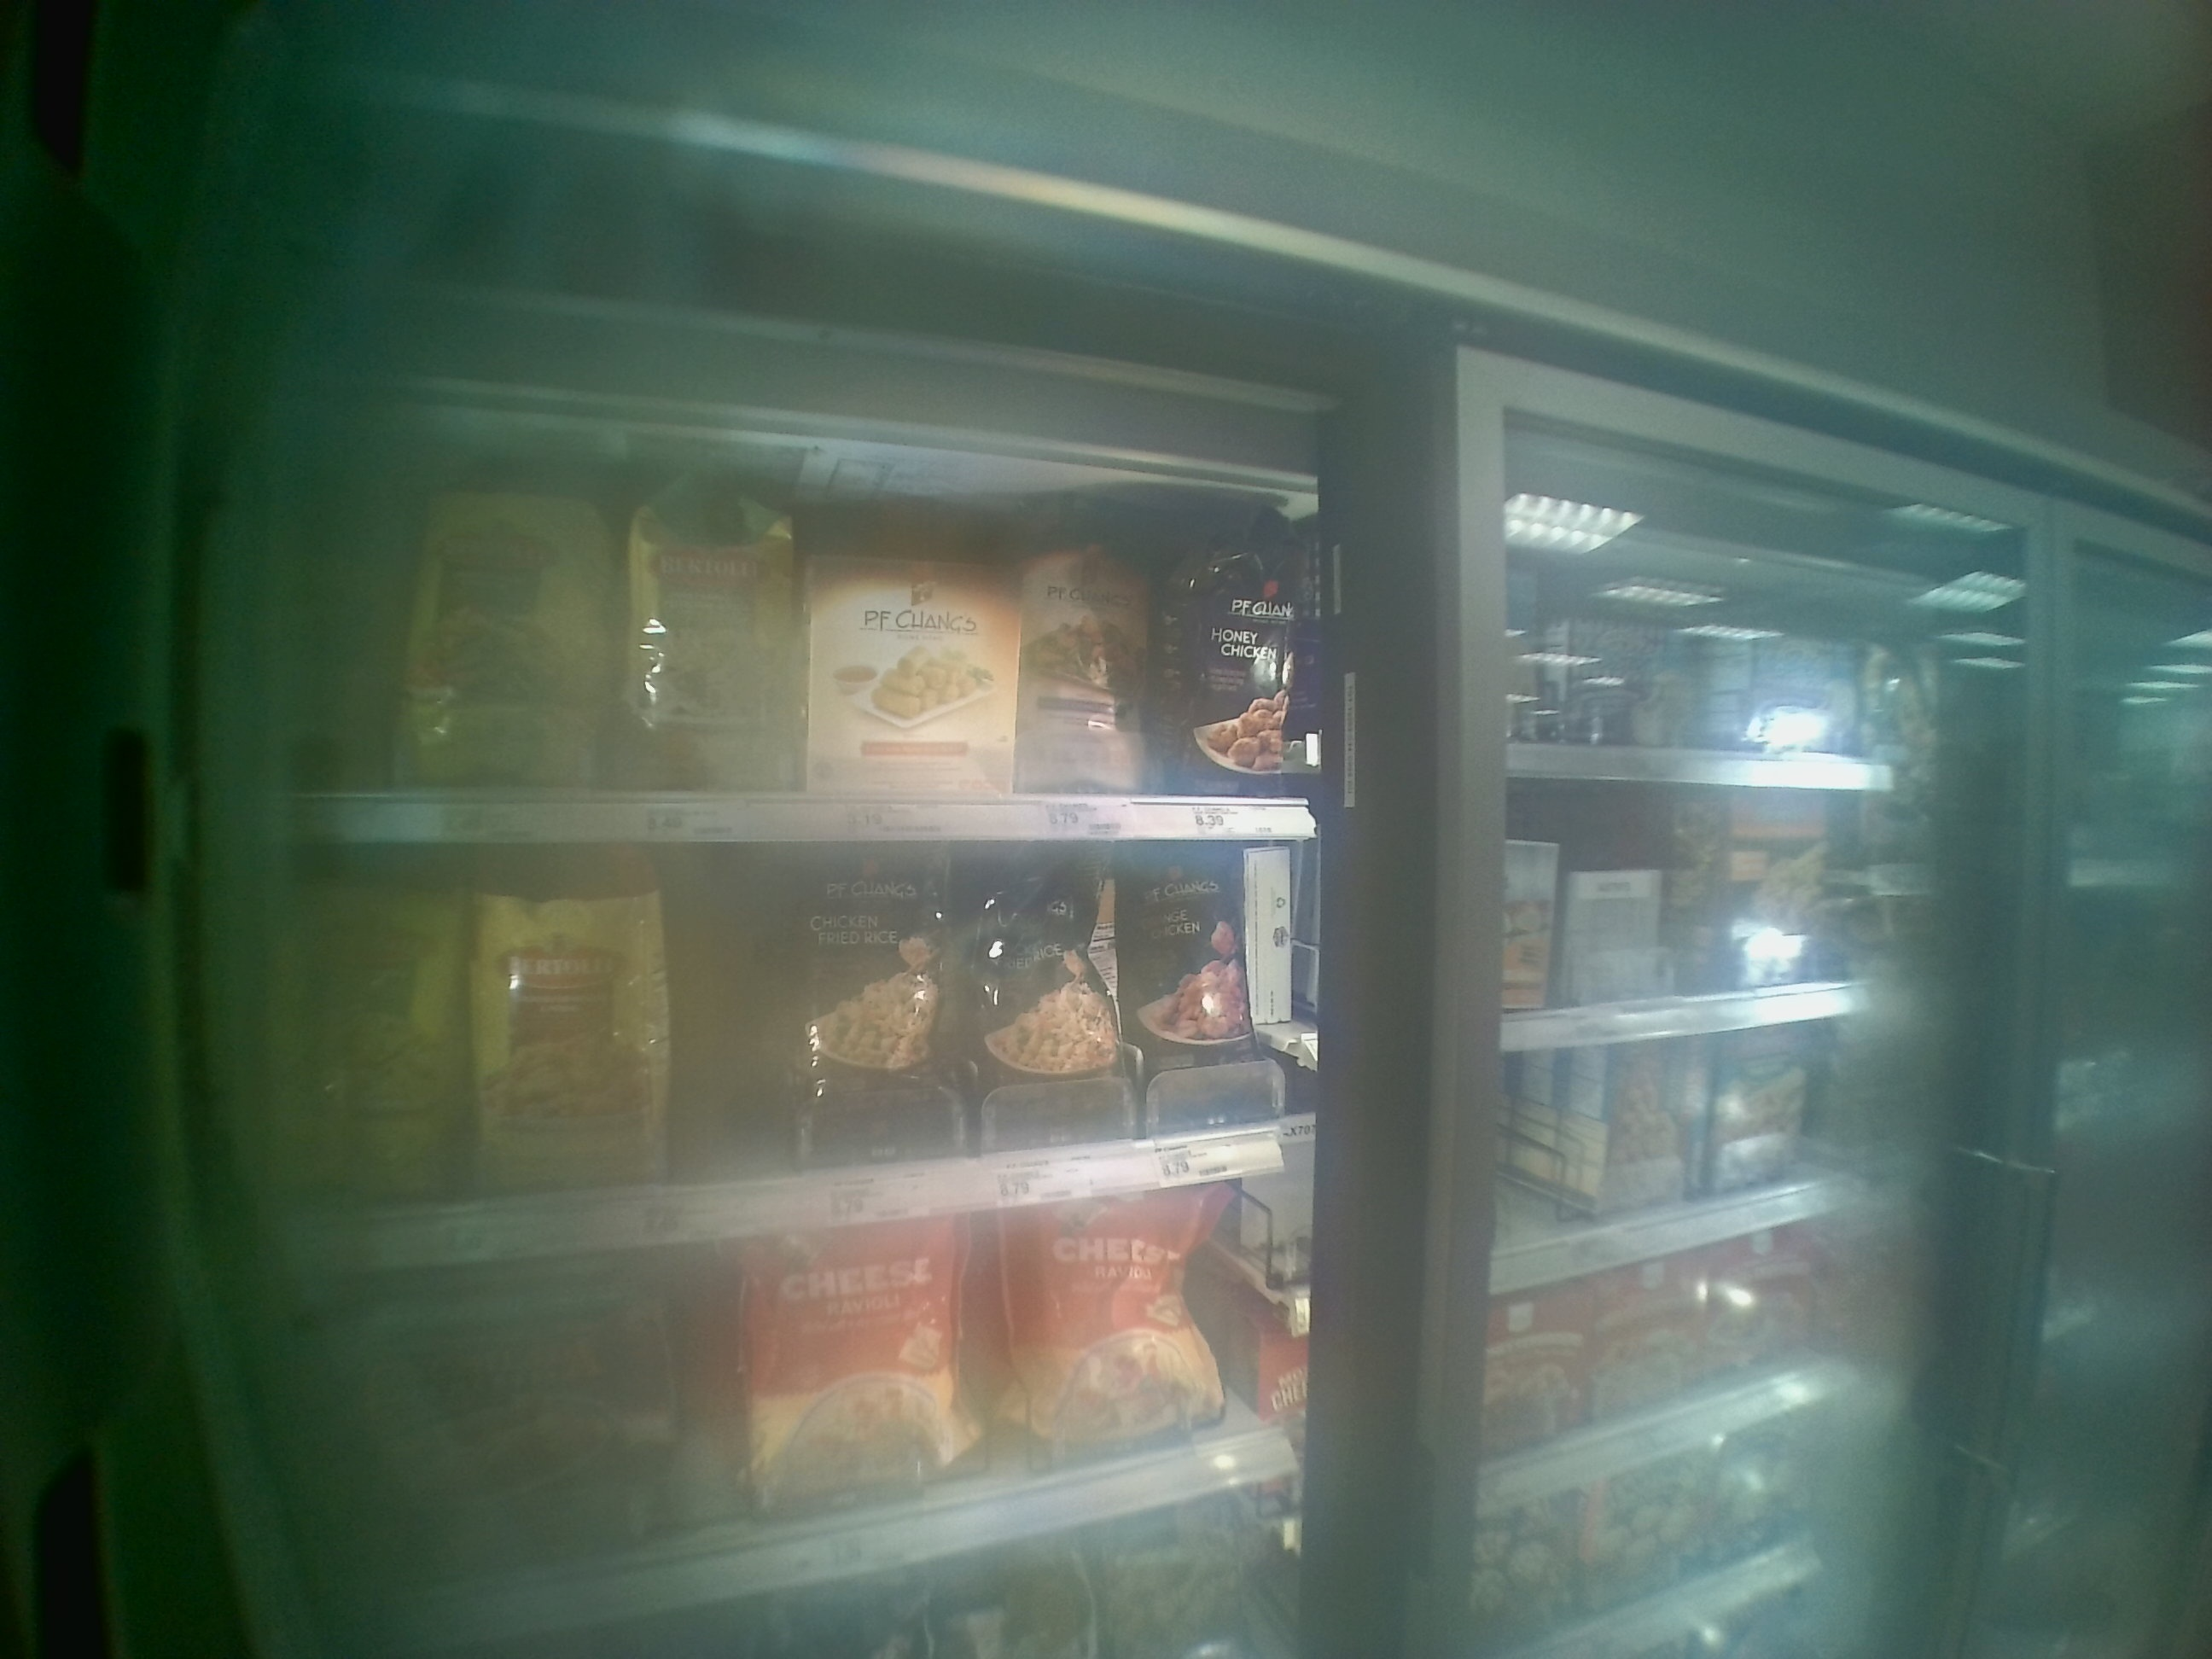shelf: (307, 814, 1285, 1199)
